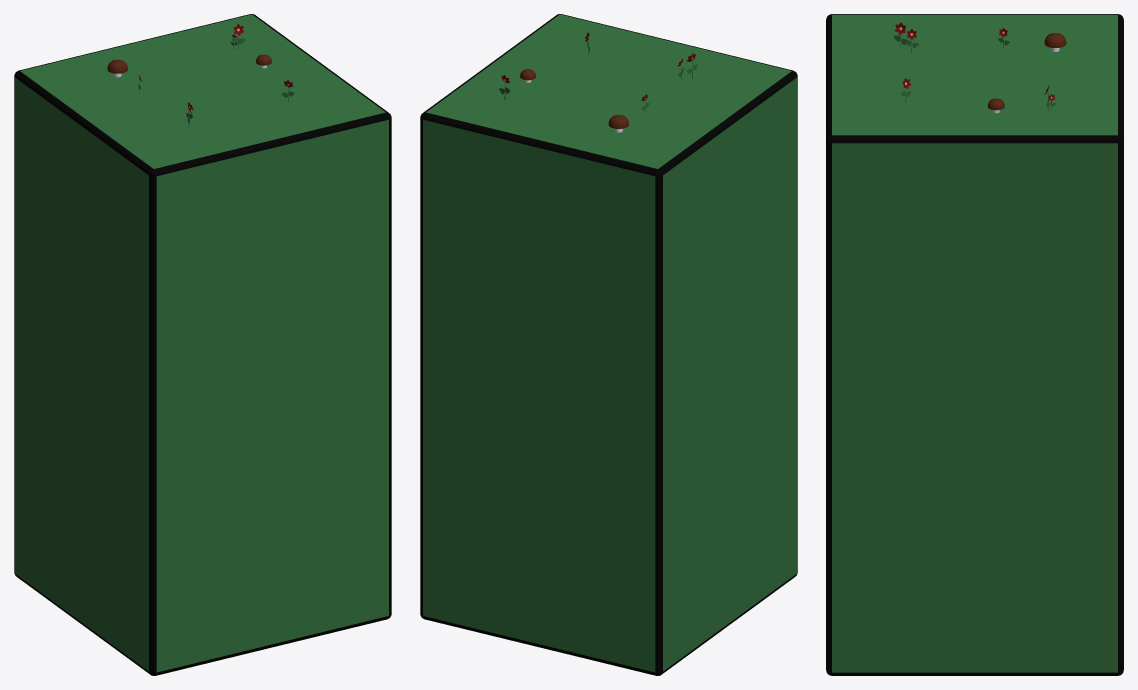
The model's file is tile1Prefab.fbx.
3 renders of one model, left to right at view 1: azimuth 30°, elevation 25°; view 2: azimuth 150°, elevation 25°; view 3: azimuth 270°, elevation 25°, orthographic. The views are drawn at different scales.
Parts seen in each view (by area): view 1: Cube.001; view 2: Cube.001; view 3: Cube.001.
Boxes of the visible parts, x1,y1,x2,y2 form: Cube.001: [14, 14, 391, 675]; Cube.001: [420, 14, 797, 675]; Cube.001: [826, 14, 1123, 675].
Size of the model in its own units: 200 by 420 by 200.
